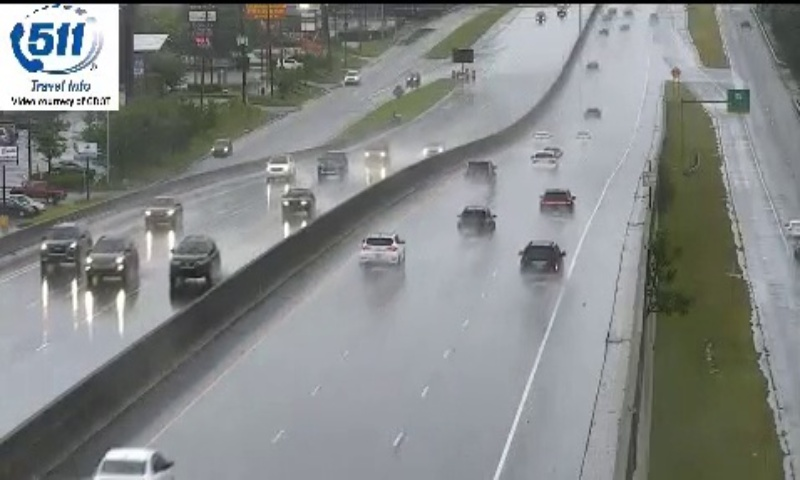car: (522, 241, 562, 280), (359, 234, 406, 266), (460, 205, 495, 238), (540, 188, 574, 217), (465, 160, 497, 186), (530, 150, 557, 171)
